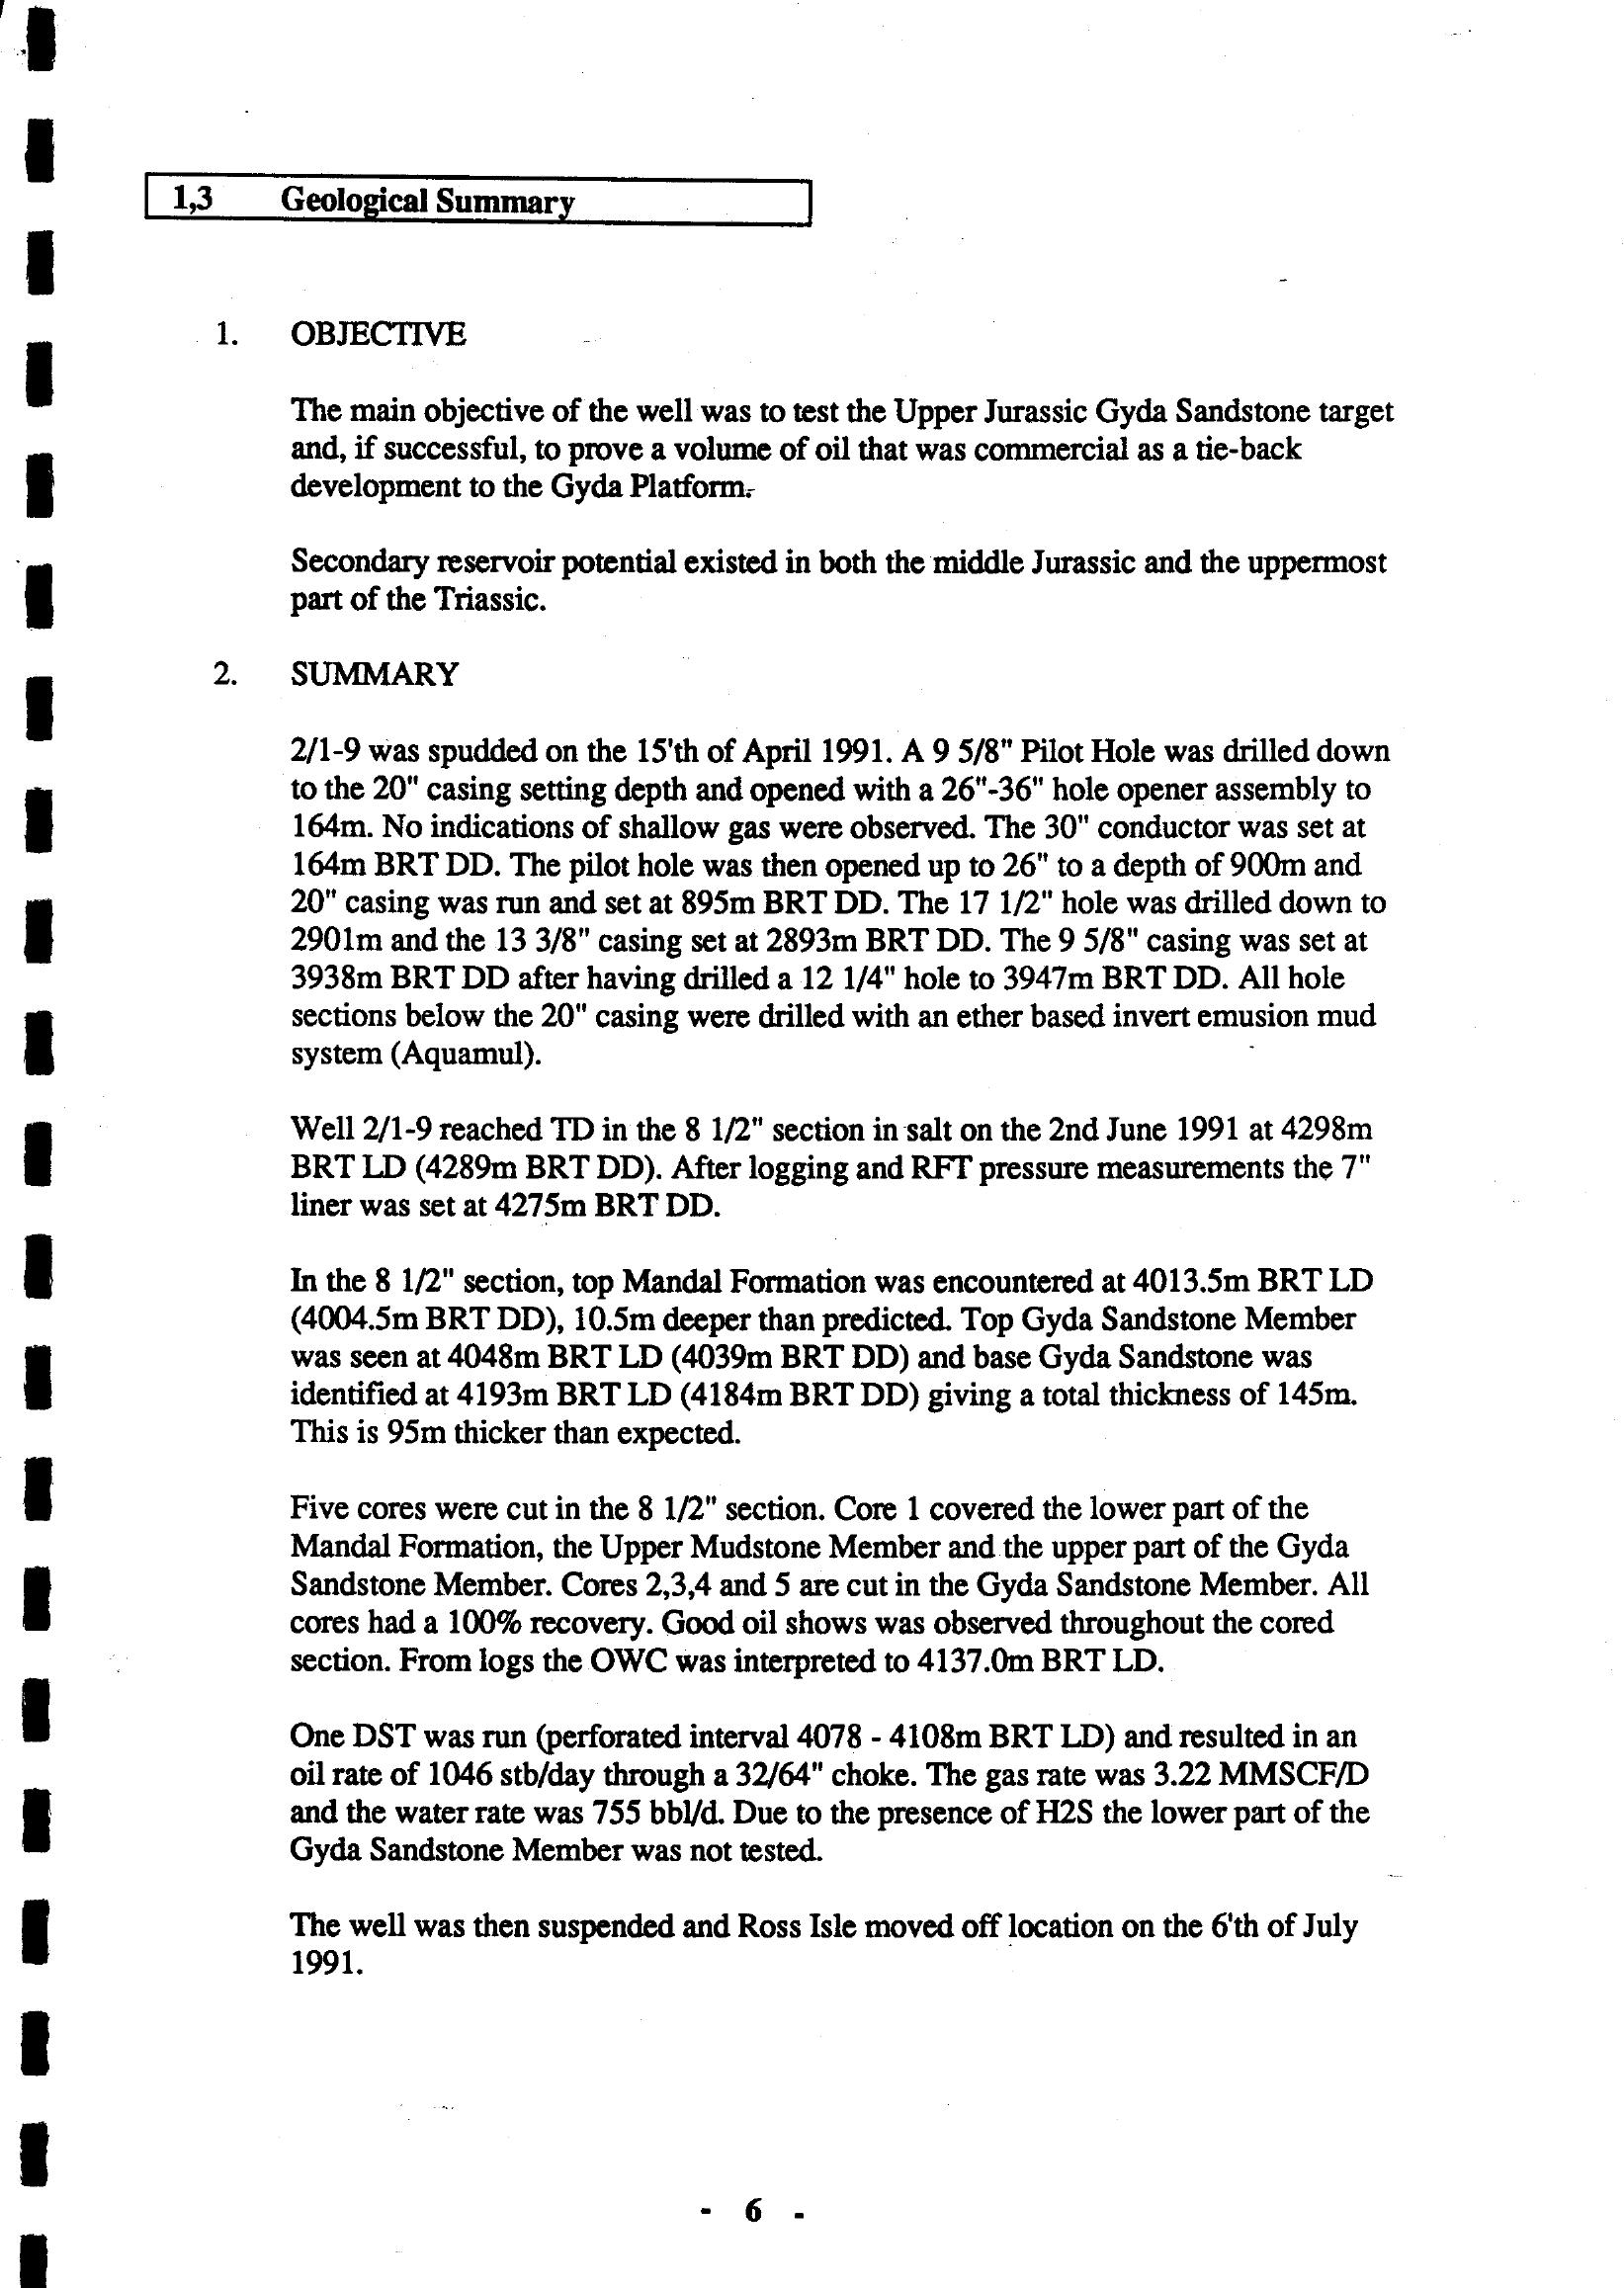text: (130, 153, 1469, 2047)
